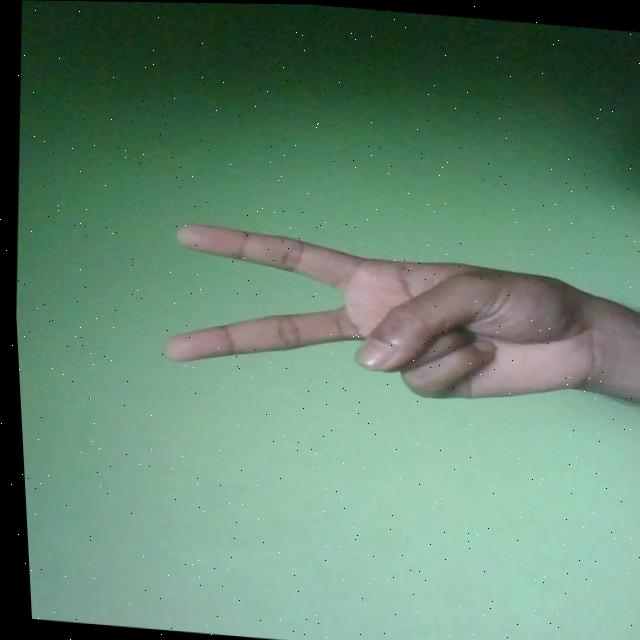Peace: (152, 217, 612, 411)
